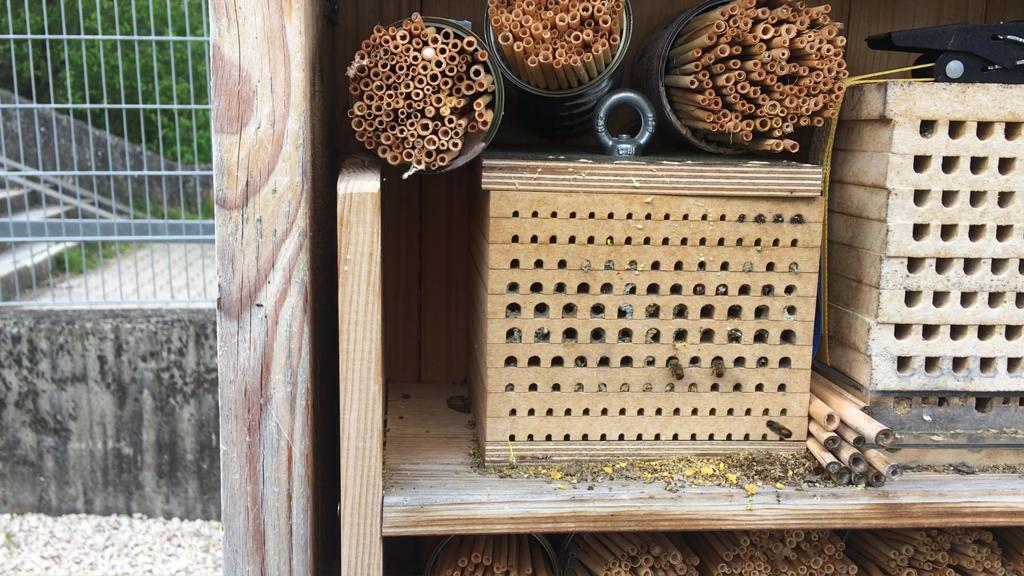bee: (664, 353, 694, 383), (707, 350, 733, 381)
